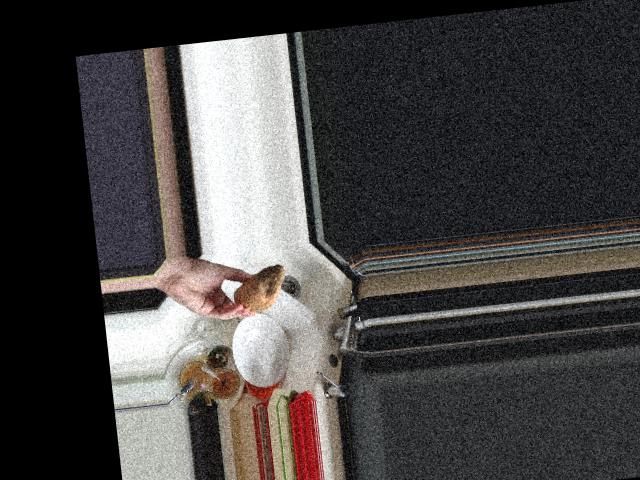sweet_potato: (230, 259, 289, 315)
